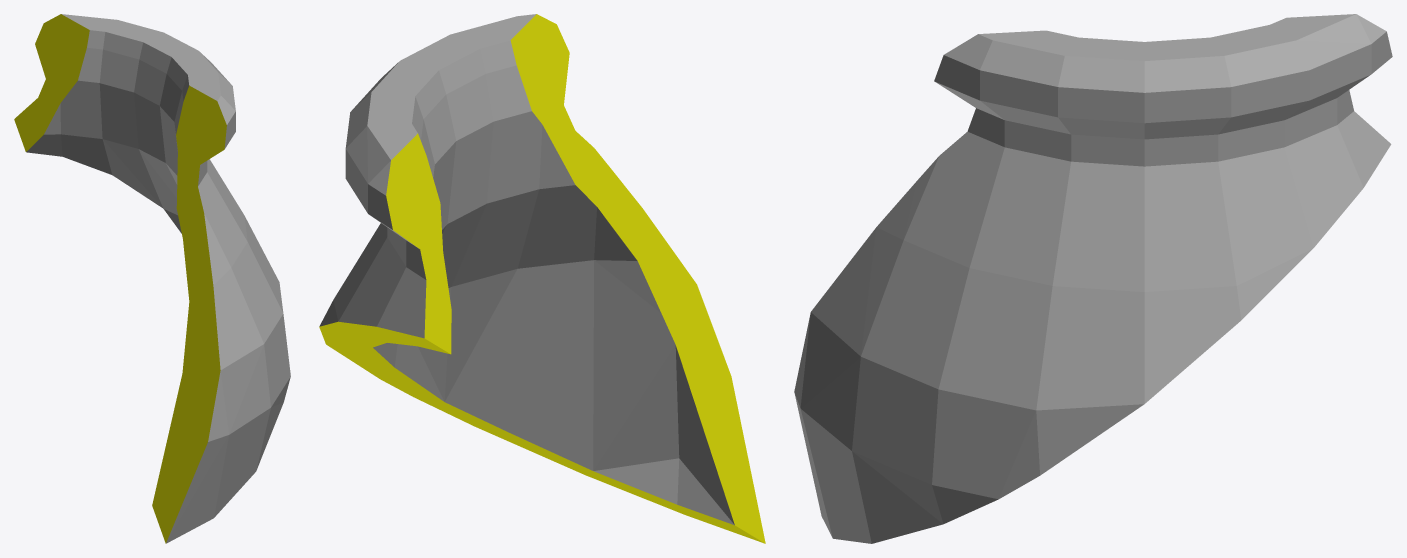
Rendered from SM_brokenVase_Part5.fbx.
The picture shows the model from 3 angles, left to right: view 1: azimuth 30°, elevation 25°; view 2: azimuth 150°, elevation 25°; view 3: azimuth 270°, elevation 25°; orthographic projection. The views are drawn at different scales.
Visible parts, largest first — view 1: SM_brokenVase_part5; view 2: SM_brokenVase_part5; view 3: SM_brokenVase_part5.
Boxes of the visible parts, box(x1,y1,x2,y2) form: SM_brokenVase_part5: box(14, 14, 290, 543); SM_brokenVase_part5: box(319, 14, 765, 543); SM_brokenVase_part5: box(794, 14, 1392, 543).
Size of the model in its own units: 31.59 by 59.1 by 57.5.
